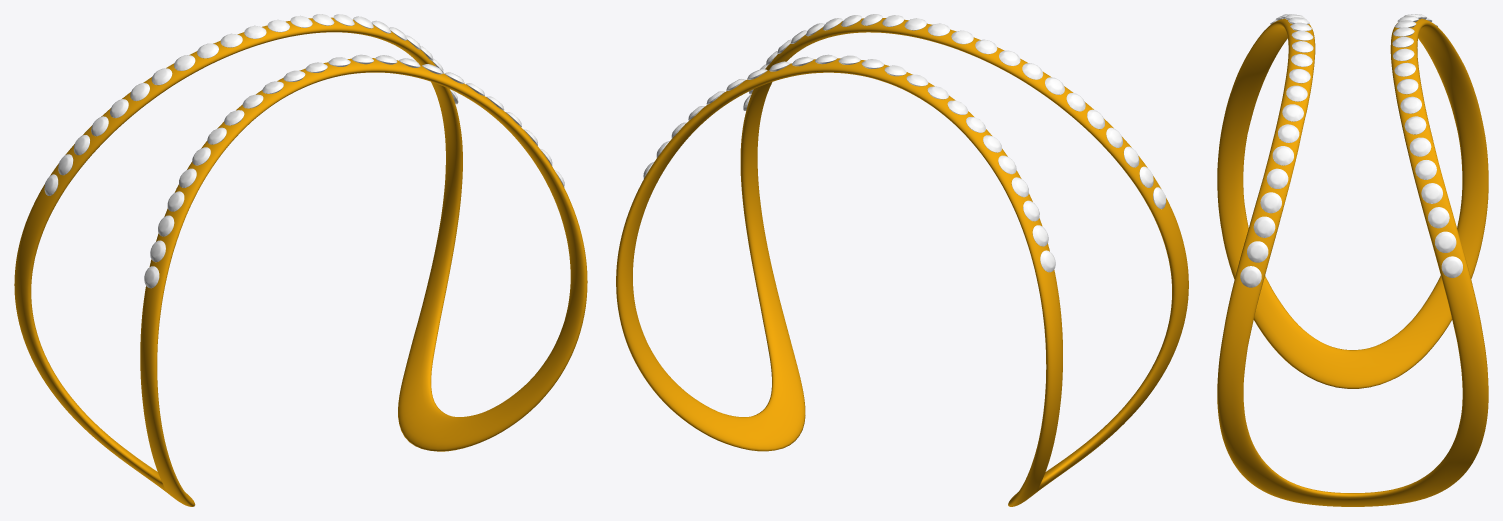
File: gelang_5.glb
3 renders of one model, left to right at view 1: azimuth 30°, elevation 25°; view 2: azimuth 150°, elevation 25°; view 3: azimuth 270°, elevation 25°, orthographic. The views are drawn at different scales.
Visible parts, largest first — view 1: Group16049, Group25365; view 2: Group16049, Group25365; view 3: Group16049, Group25365.
Part boxes in pixels (box(x1,y1,x2,y2)): Group16049: box(14, 17, 587, 506); Group25365: box(44, 14, 564, 288); Group16049: box(616, 18, 1188, 506); Group25365: box(643, 14, 1166, 272); Group16049: box(1217, 18, 1488, 506); Group25365: box(1240, 14, 1462, 287).
Size of the model in its own units: 5.61 by 5.23 by 3.1.
